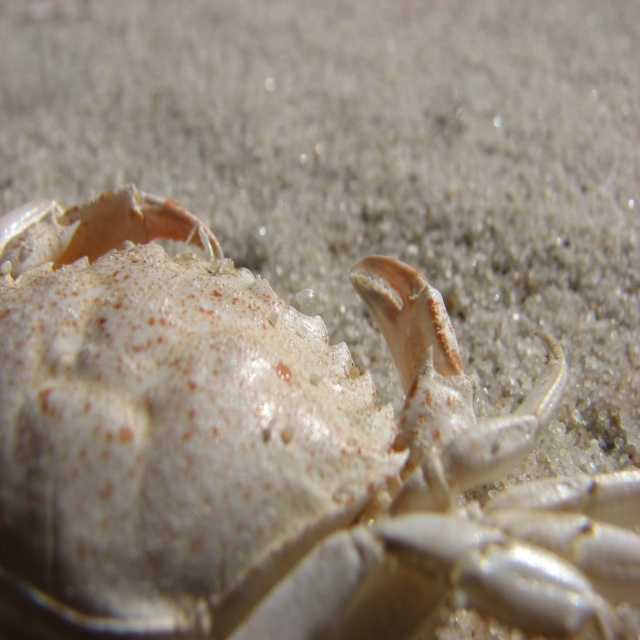Crab: (0, 181, 640, 639)
